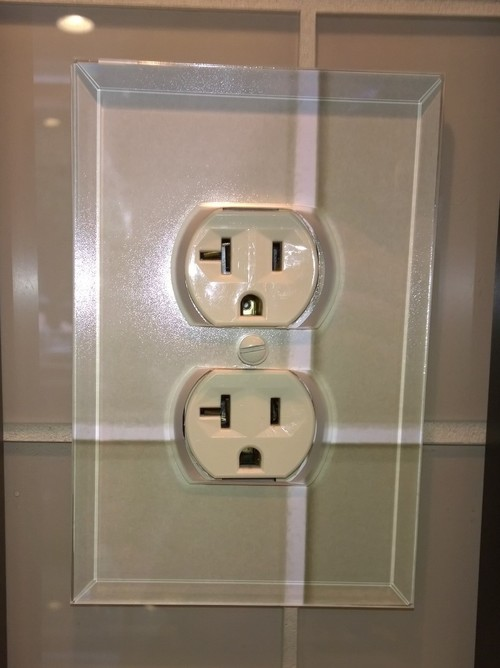outlet: (193, 230, 287, 321), (195, 388, 286, 472)
